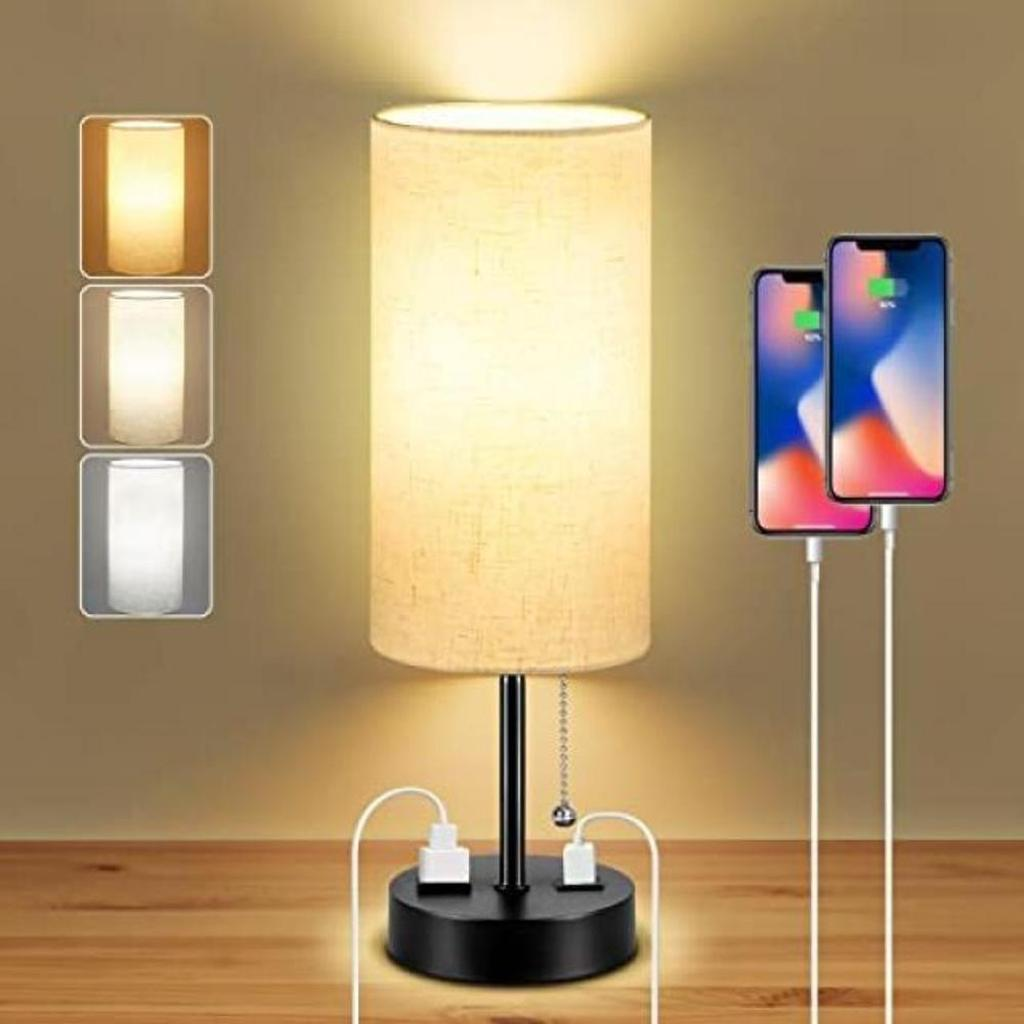shelf: (328, 69, 704, 998)
